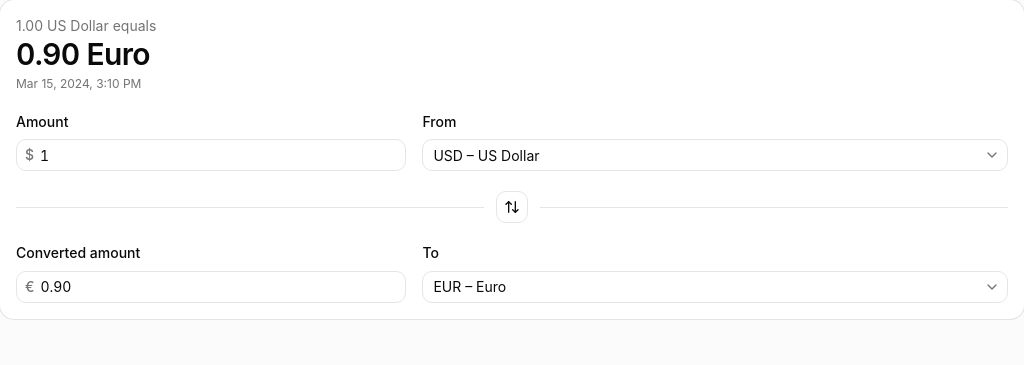
Scenario: CurrencyConverter › doesn't offer the other side's currency in the From list
Expected: the field labelled "Converted amount" holds "0.90", [34, 270, 405, 302]
Replace the text in the dropdown labelled "From" with "Euro" at (702, 155), box [423, 139, 980, 171]
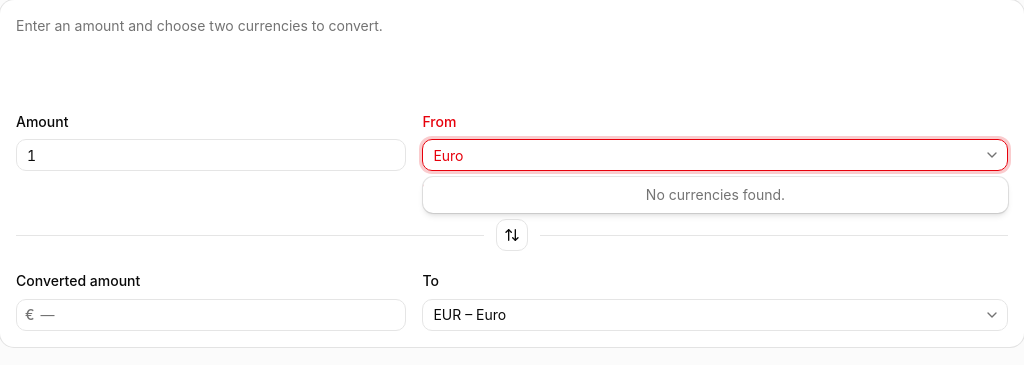
Now the text "No currencies found." is shown, box [646, 186, 785, 203]
